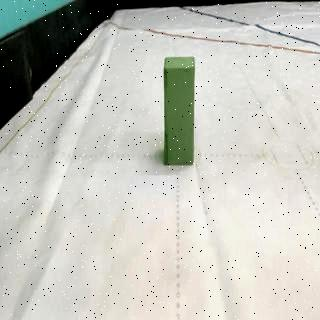greenbox: (162, 56, 198, 166)
